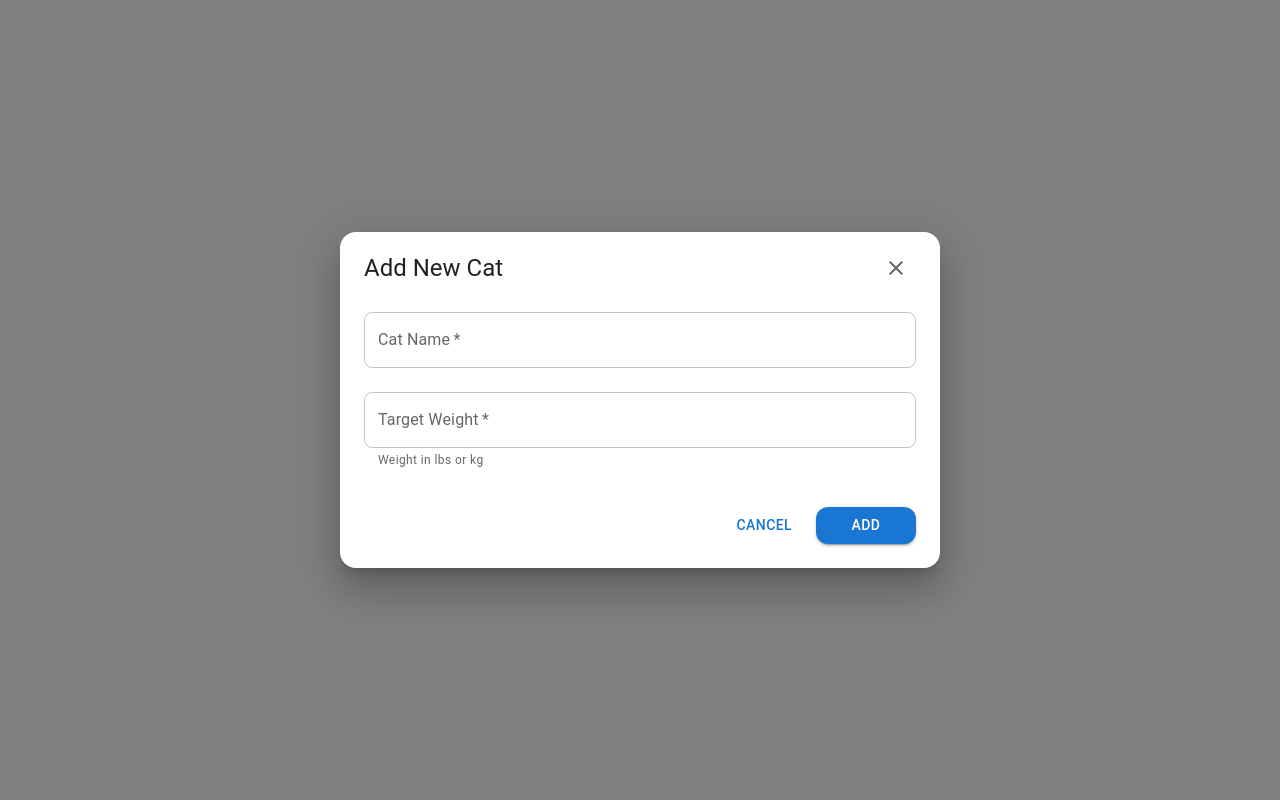
Test case: CatForm › validates required name field
The width and height of the screenshot is (1280, 800).
Click the button "Add": (866, 525) [816,507,916,544]
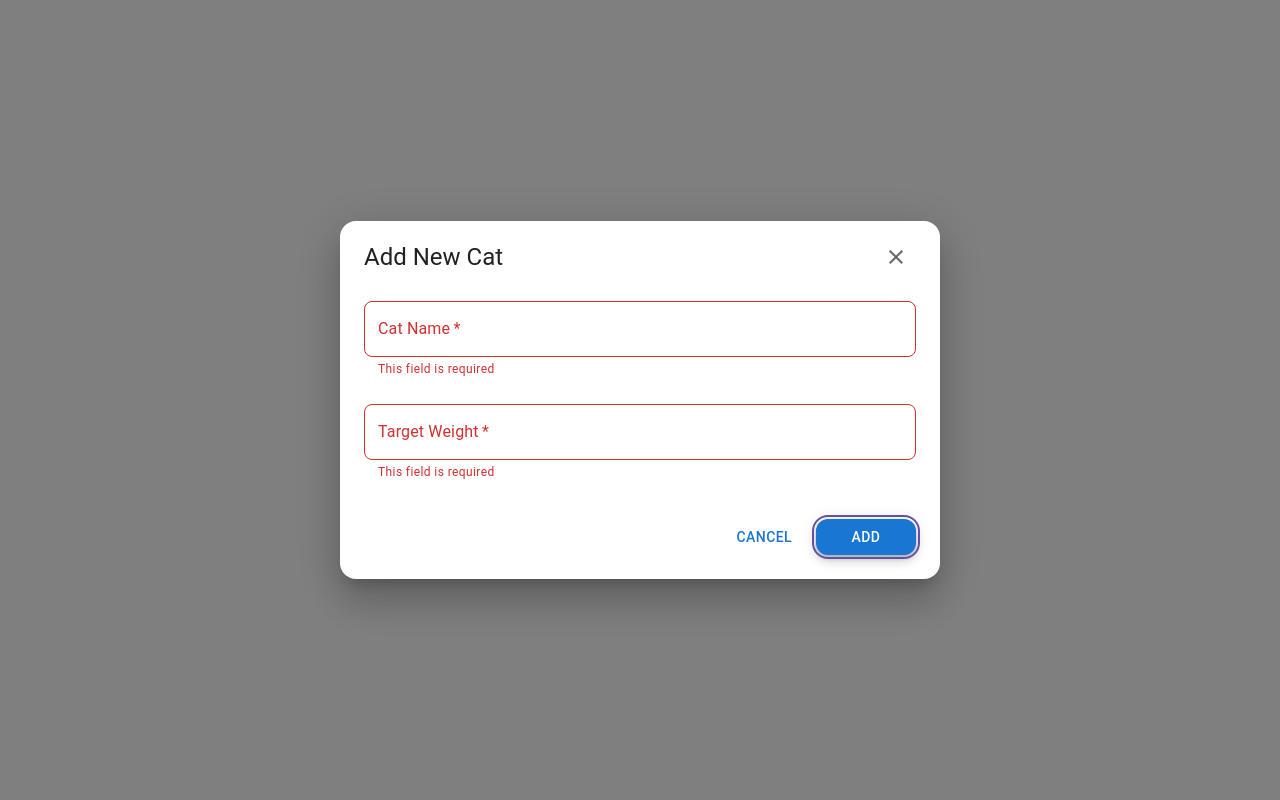
Expected: the text "This field is required" is shown 2 times, [378,362,495,376]; [378,465,495,479]
